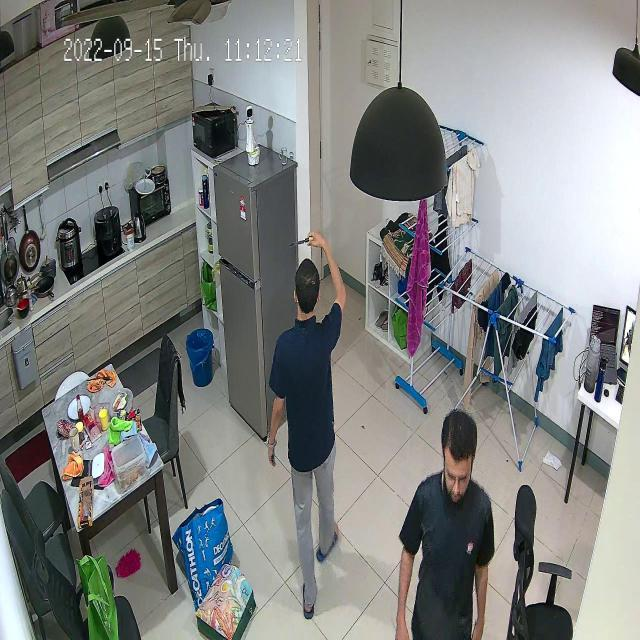Knife: (288, 229, 321, 253)
